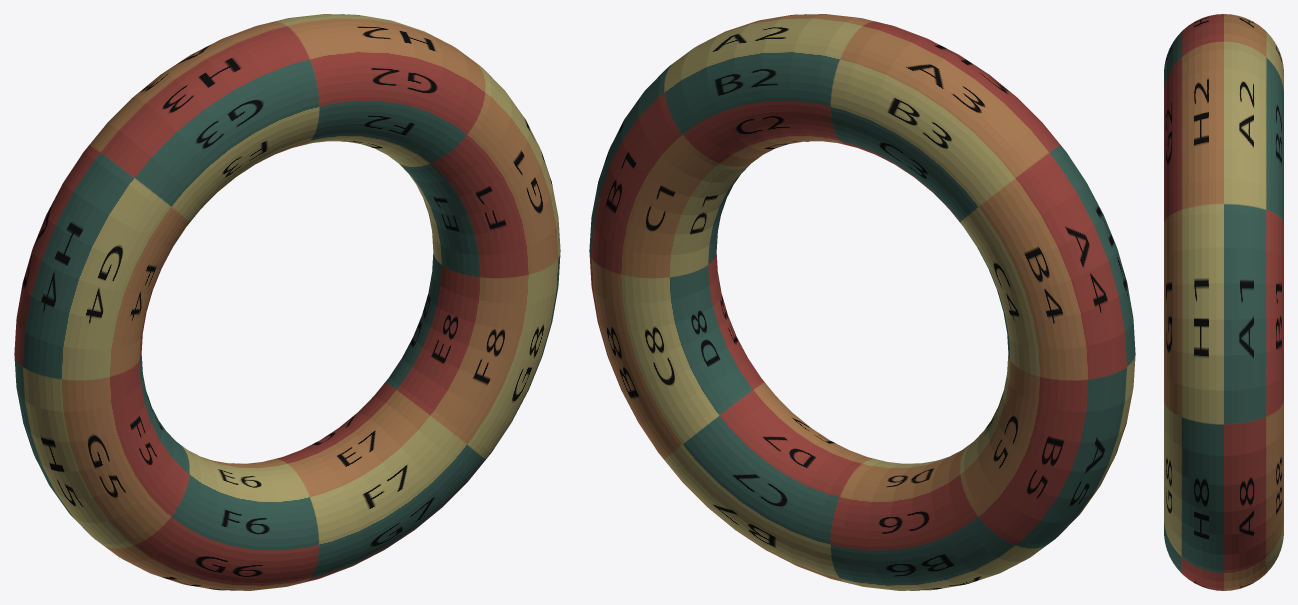
The model's file is texture_torus_R4_r5.glb.
3 views of the same model, side by side, from view 1: azimuth 30°, elevation 25°; view 2: azimuth 150°, elevation 25°; view 3: azimuth 270°, elevation 25° (orthographic). The views are drawn at different scales.
Parts seen in each view (by area): view 1: world; view 2: world; view 3: world.
Part boxes in pixels (x1,y1,x2,y2): world: [14, 14, 560, 590]; world: [589, 14, 1135, 590]; world: [1164, 14, 1283, 590].
Bounding box in the file's own units: 16 × 15.97 × 3.33.
1 material, 1 textured.
